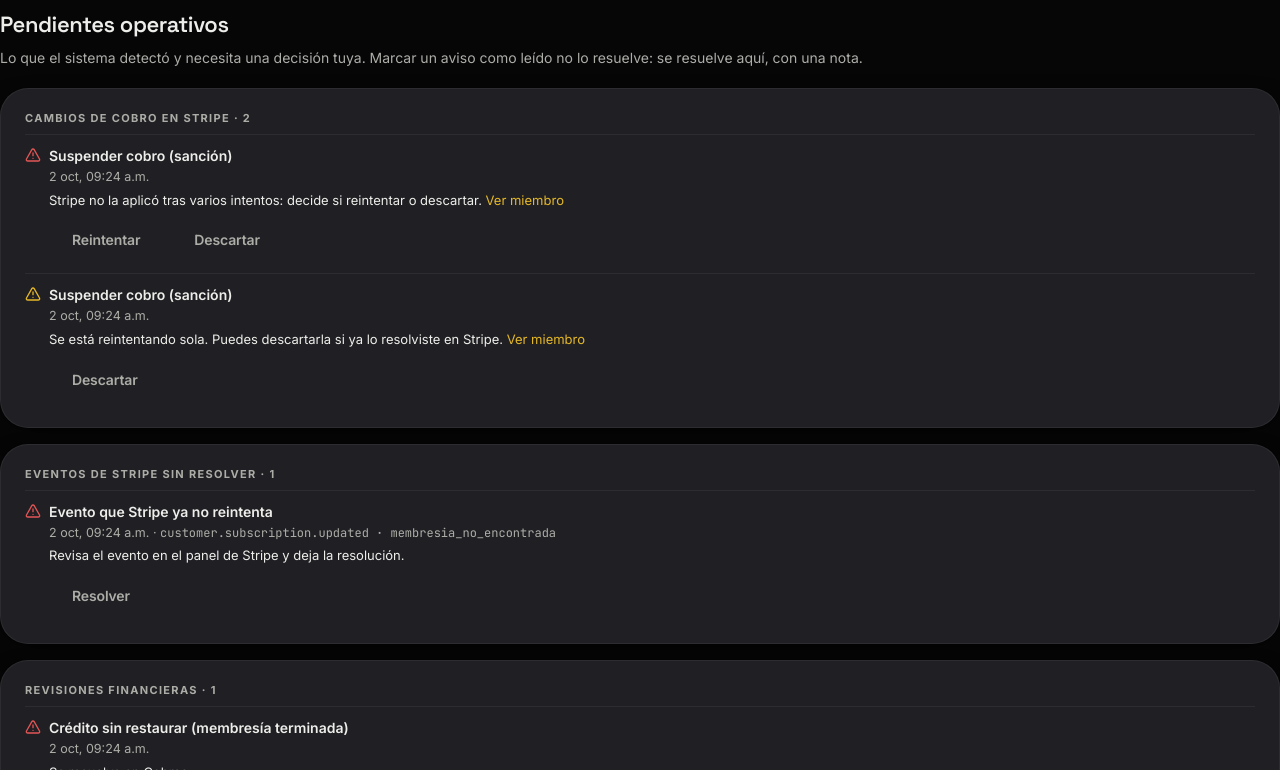
Test: Operación (PKG-03A) › resolver un evento: RPC del servidor con resolución y nota; el éxito sale solo tras confirmar
Click the button "Resolver" at {"x": 101, "y": 595}, box x1=49 y1=572 x2=153 y2=619
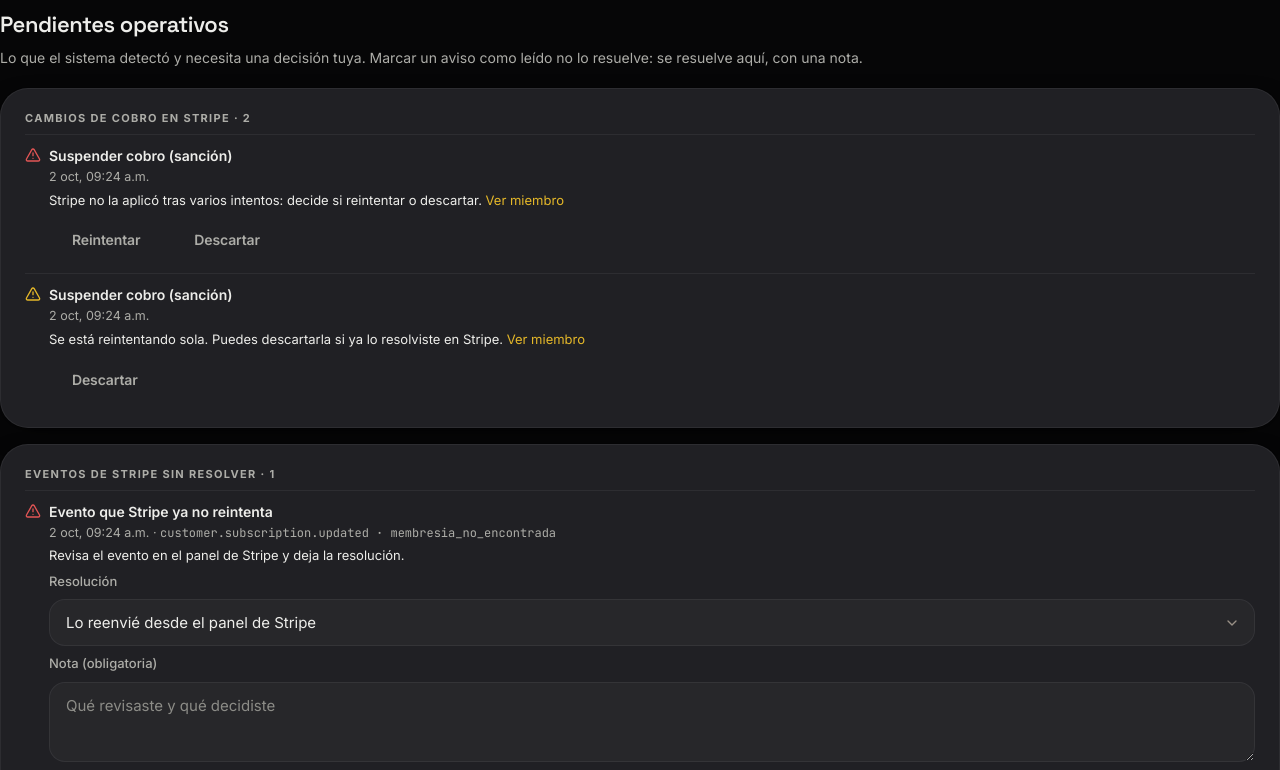
Type "Lo reenvié desde el panel de Stripe hoy" into the text box labelled "Nota (obligatoria)" at {"x": 652, "y": 722}, box x1=49 y1=682 x2=1255 y2=762
(page scrolled)
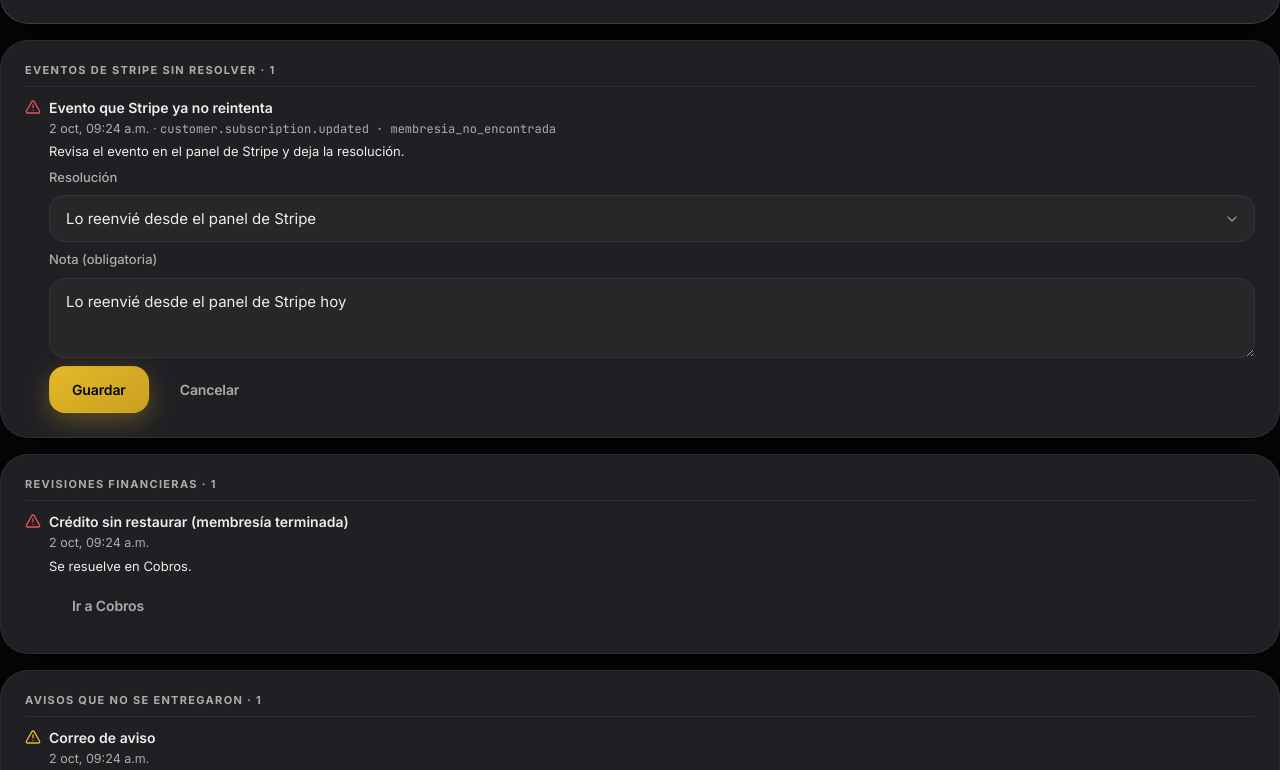
Click the button "Guardar" at {"x": 99, "y": 389}, box x1=49 y1=366 x2=149 y2=413
(page scrolled)
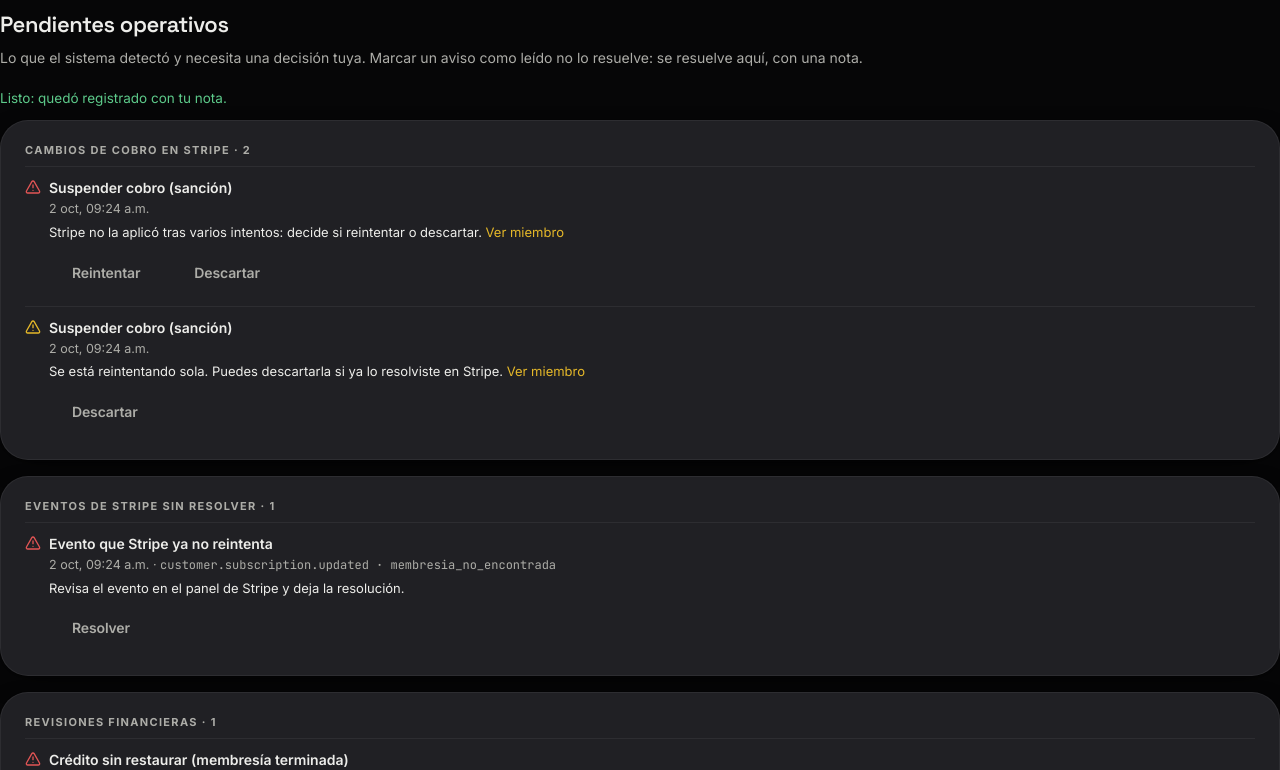
Expected: the message shows "quedó registrado", x1=0 y1=90 x2=227 y2=106
